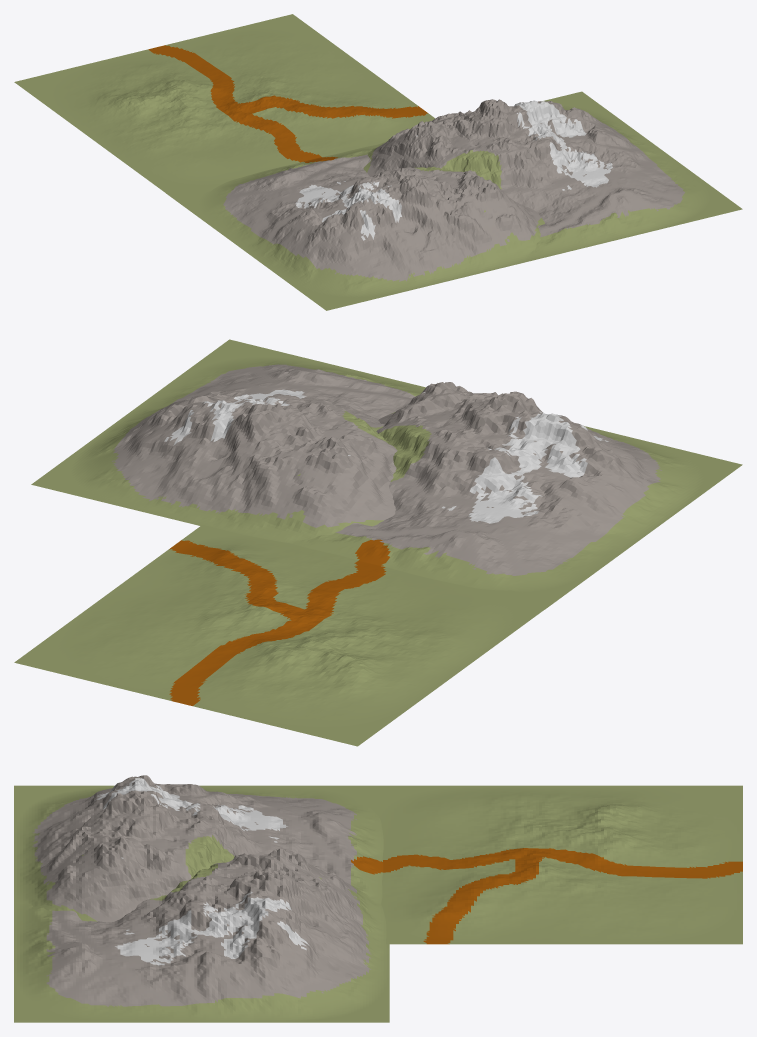
Rendered from Terrain.fbx.
The picture shows the model from 3 angles, top to bottom: view 1: azimuth 30°, elevation 25°; view 2: azimuth 150°, elevation 25°; view 3: azimuth 270°, elevation 25°; orthographic projection. The views are drawn at different scales.
Visible parts, largest first — view 1: Landscape.001; view 2: Landscape.001; view 3: Landscape.001.
Boxes of the visible parts, x1,y1,x2,y2 form: Landscape.001: (14, 14, 742, 310); Landscape.001: (14, 339, 742, 746); Landscape.001: (14, 775, 742, 1022).
Size of the model in its own units: 299 by 388 by 41.6.
